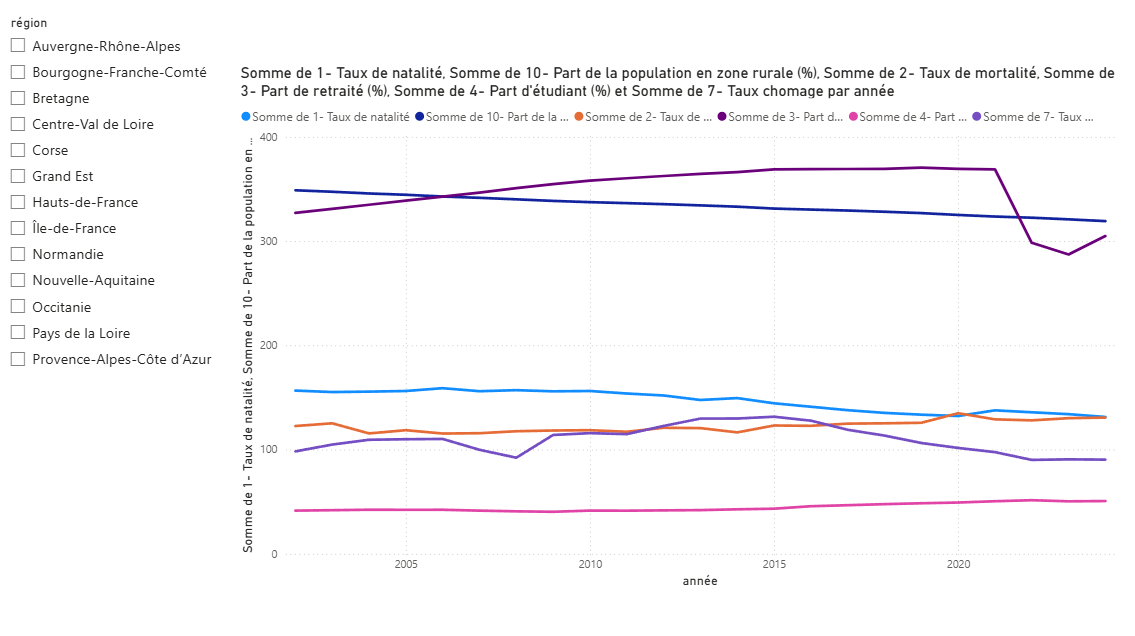

What the dashboard file says about the page in this screenshot:
{"tool":"powerbi","page":{"name":"Différents indicateurs démographique par région au fil des années","canvas":[1280,720],"ordinal":3},"visuals":[{"type":"lineChart","fields":{"Category":["Données élections.année"],"Y":["Sum(Données élections.1- Taux de natalité)","Sum(Données élections.10- Part de la population en zone rurale (%))","Sum(Données élections.2- Taux de mortalité)","Sum(Données élections.3- Part de retraité (%))","Sum(Données élections.4- Part d'étudiant (%))","Sum(Données élections.7- Taux chomage)"]},"box":[263.3,72.2,984.4,587.8],"z":0},{"type":"slicer","fields":{"Values":["Données élections.région"]},"box":[0,13.3,263.3,646.7],"z":1000}]}

Visuals, with their boxes in screenshot pixels (x1, y1, x2, y2), scaled from the page's 1280x720 canvas onto the 1135x636 screenshot:
lineChart - Données élections.année x Sum(Données élections.1- Taux de natalité): 233:64:1106:583
slicer - Données élections.région: 0:12:233:583
